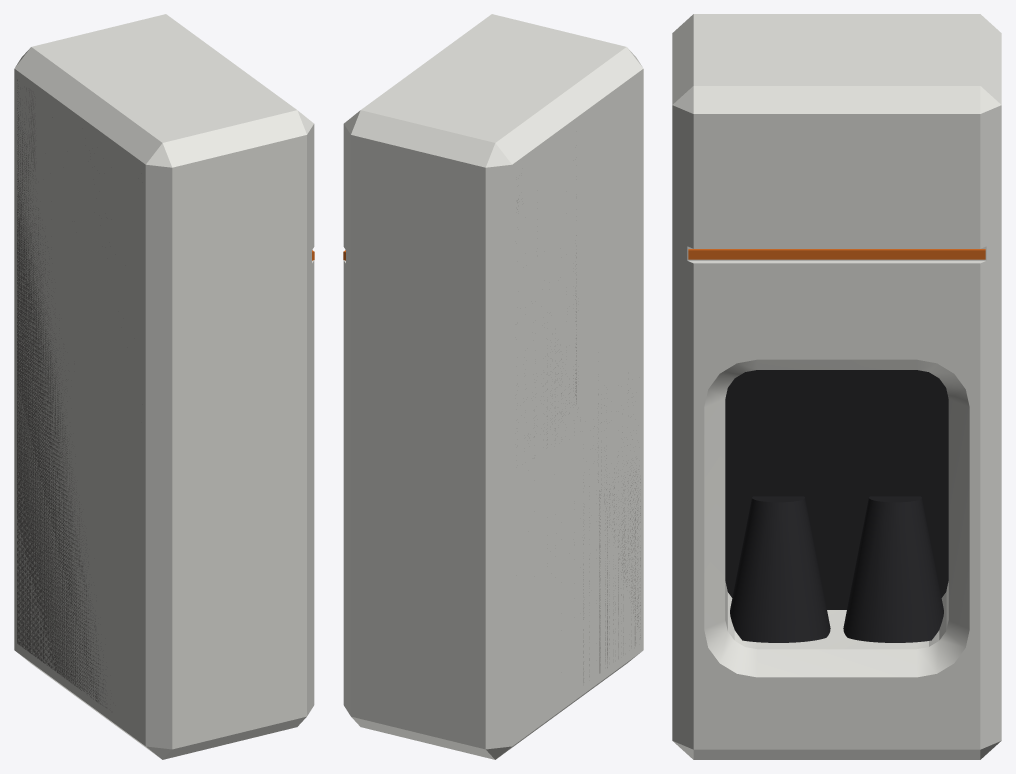
File: ax_prop_18_abort_pod.glb
3 views of the same model, side by side, from view 1: azimuth 30°, elevation 25°; view 2: azimuth 150°, elevation 25°; view 3: azimuth 270°, elevation 25° (orthographic). The views are drawn at different scales.
Parts seen in each view (by area): view 1: pod_fairing, mount_plate; view 2: pod_fairing, mount_plate; view 3: pod_fairing, bay_liner, abort_nozzles, orange_stripes.
Boxes of the visible parts, <box> form: pod_fairing: <box>14,14,314,759</box>; mount_plate: <box>17,79,106,707</box>; pod_fairing: <box>343,14,643,759</box>; mount_plate: <box>517,199,640,682</box>; pod_fairing: <box>672,14,1001,759</box>; bay_liner: <box>725,370,948,609</box>; abort_nozzles: <box>730,496,943,642</box>; orange_stripes: <box>688,249,985,259</box>.
Bounding box in the file's own units: 0.4 × 1.4 × 0.62.
4 materials, 1 textured.
